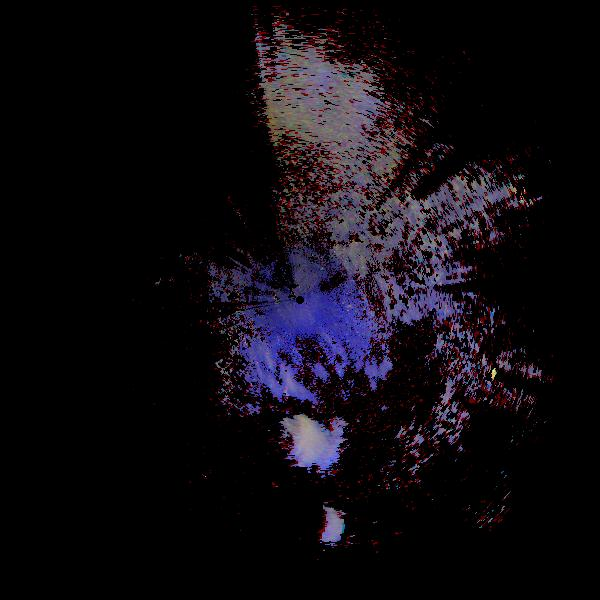roost: (268, 412, 322, 466), (291, 497, 345, 551)
